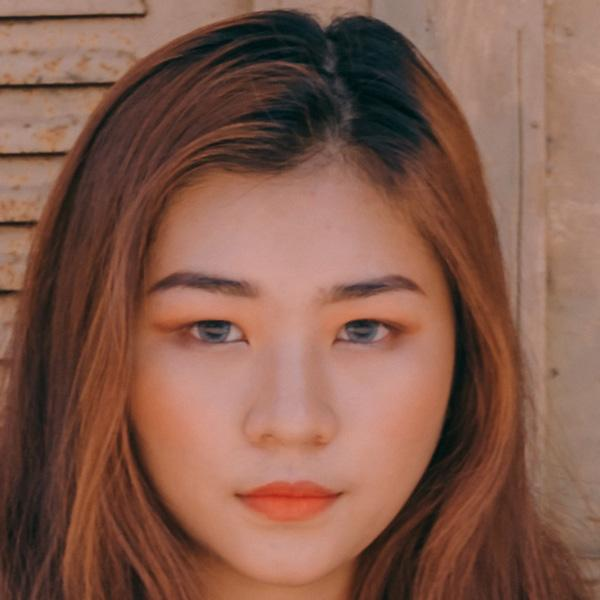Eyes: (169, 308, 259, 358), (325, 308, 405, 355)
